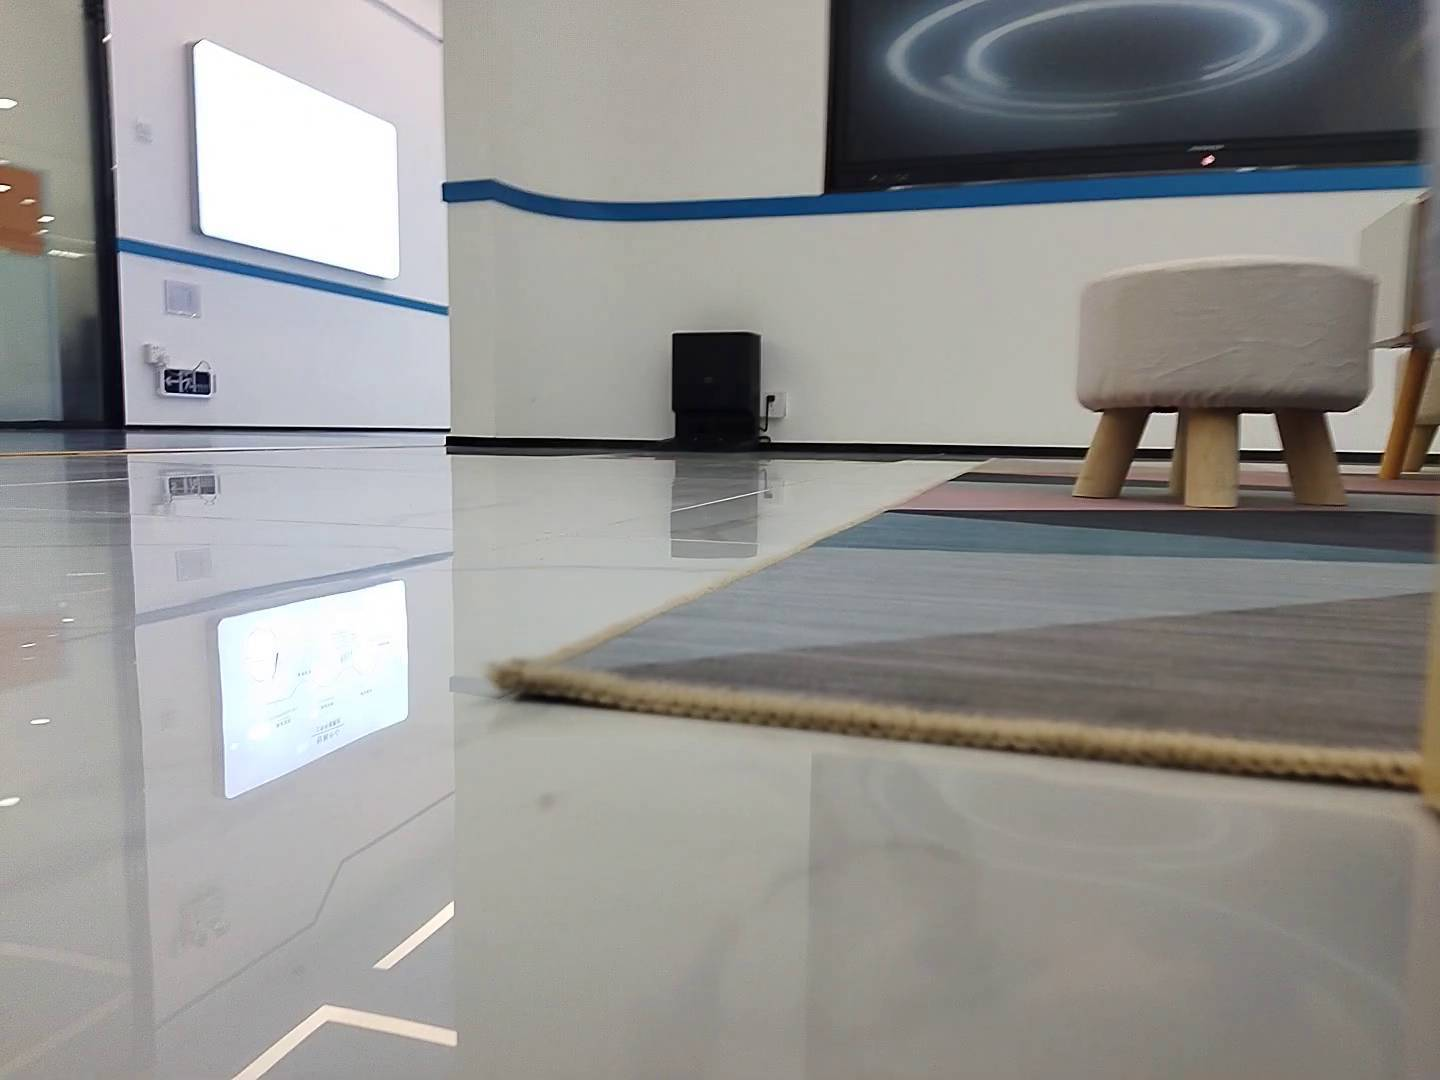dust collecting barrel: (642, 330, 770, 457)
